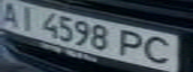4: (36, 10, 60, 39)
5: (54, 15, 75, 43)
8: (90, 21, 115, 52)
9: (69, 18, 93, 47)
A: (0, 0, 24, 27)
C: (139, 34, 181, 66)
I: (12, 3, 42, 32)
P: (115, 28, 151, 60)
